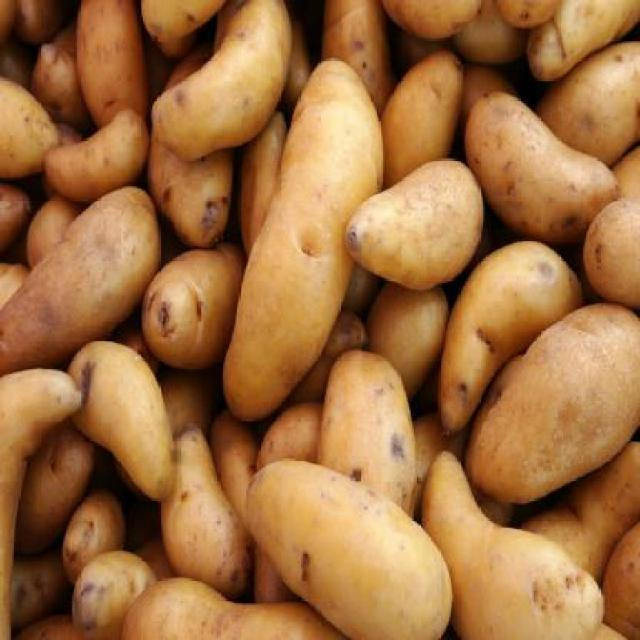Potato: (0, 0, 638, 638), (244, 453, 458, 639), (345, 156, 483, 292)
